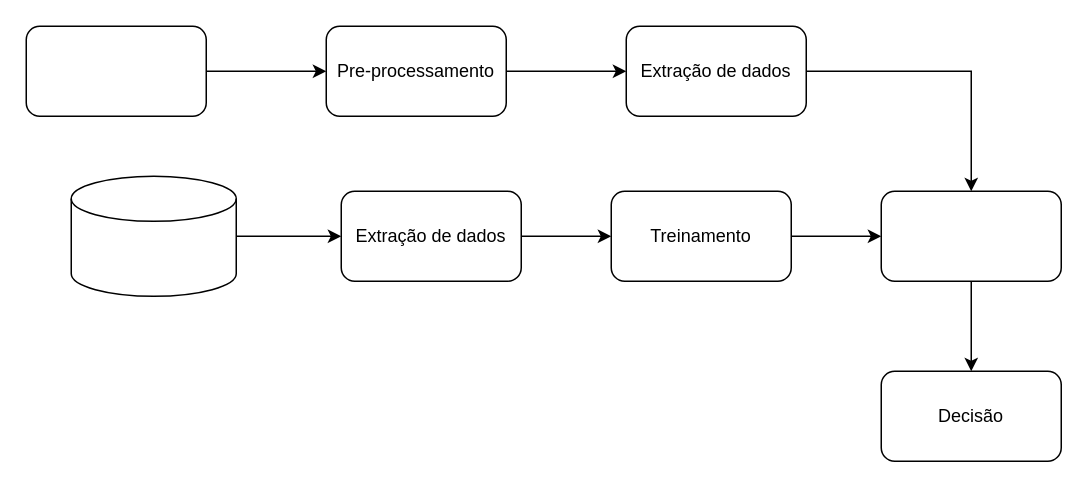
The diagram is 1088 pixels wide and 488 high, and some of its shapes have lost their labels. Here are the shapes that lost their labels. From the top down, the centre of each, then its label:
At (x=115, y=70): "Input".
At (x=153, y=235): "Dataset".
At (x=970, y=235): "Classificação".
